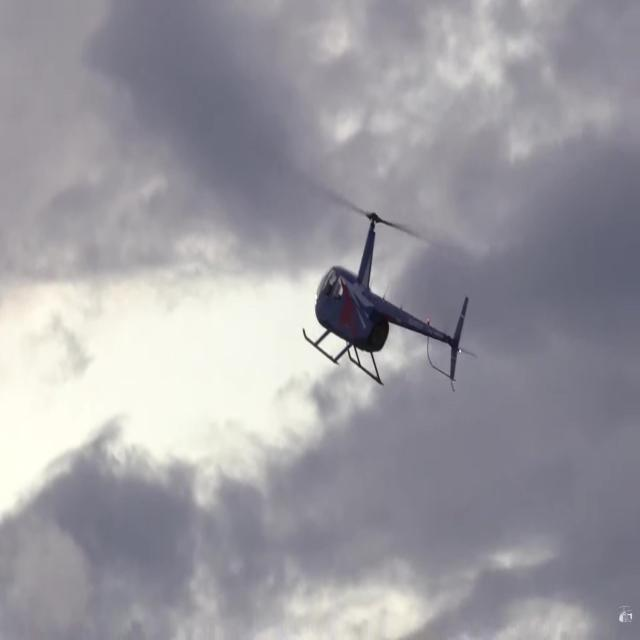CIV_HELO: (301, 209, 476, 388)
